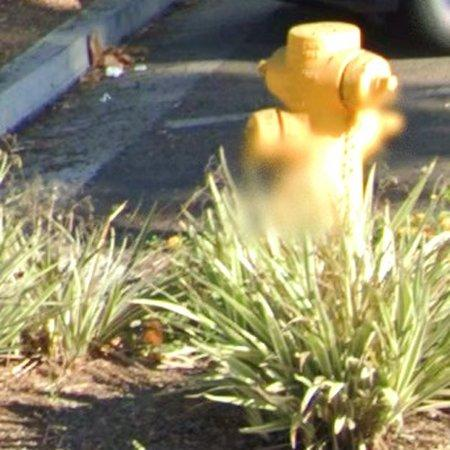a fire hydrant: (239, 22, 406, 239)
